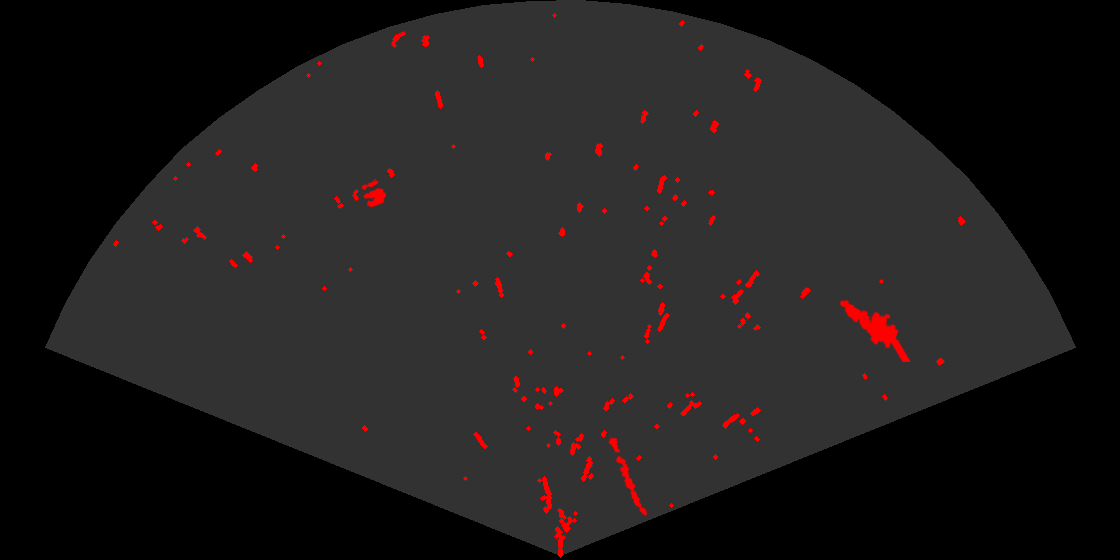ball: (360, 179, 388, 209)
chain: (607, 433, 649, 518)
frogman: (838, 298, 910, 362)
